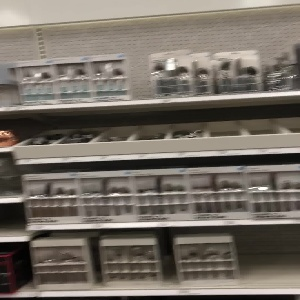void: (235, 224, 300, 287)
